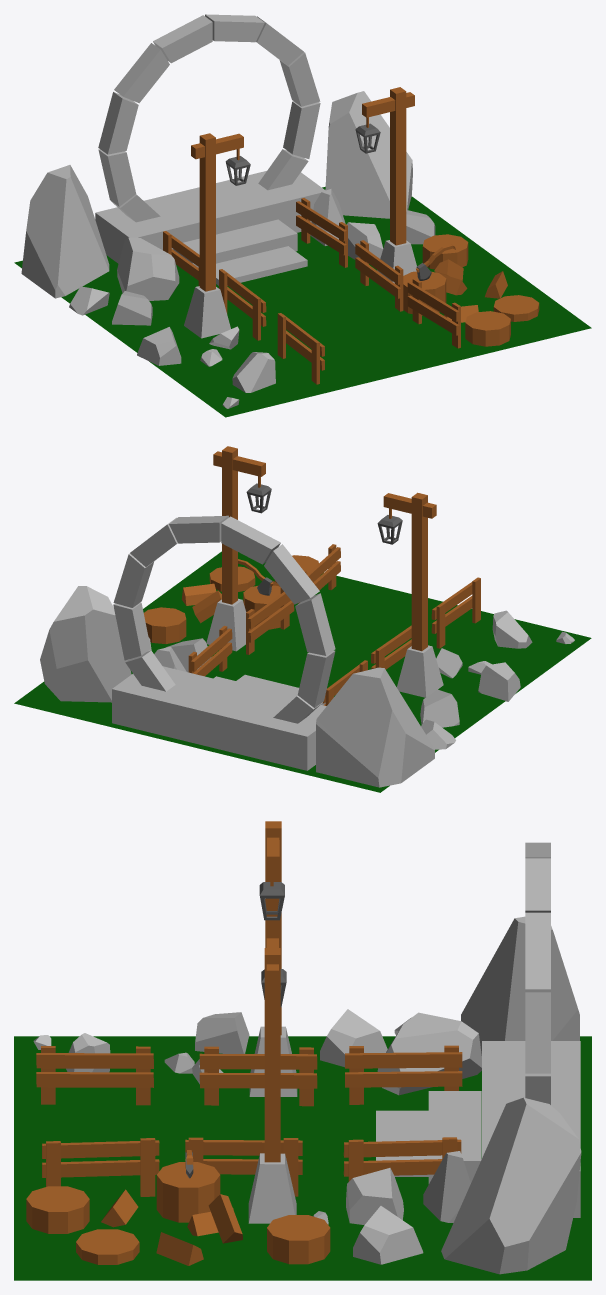
The model's file is portal-starter.glb.
3 renders of one model, top to bottom at view 1: azimuth 30°, elevation 25°; view 2: azimuth 150°, elevation 25°; view 3: azimuth 270°, elevation 25°, orthographic. The views are drawn at different scales.
Parts seen in each view (by area): view 1: Cube.015; view 2: Cube.015; view 3: Cube.015.
Part boxes in pixels (bbox=[...]): Cube.015: bbox=[14, 14, 591, 417]; Cube.015: bbox=[14, 446, 591, 792]; Cube.015: bbox=[14, 821, 591, 1280].
Size of the model in its own units: 4.08 by 2.28 by 4.
